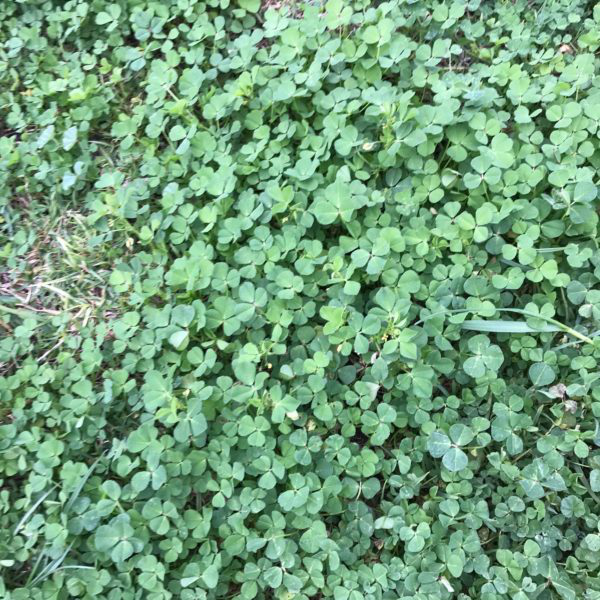clover: (2, 1, 596, 598)
